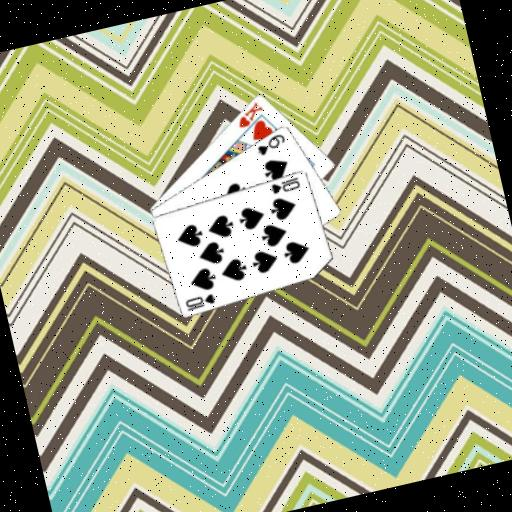10S: (266, 173, 303, 197), (182, 290, 219, 313)
6S: (252, 130, 289, 158)
KH: (231, 97, 268, 131)
